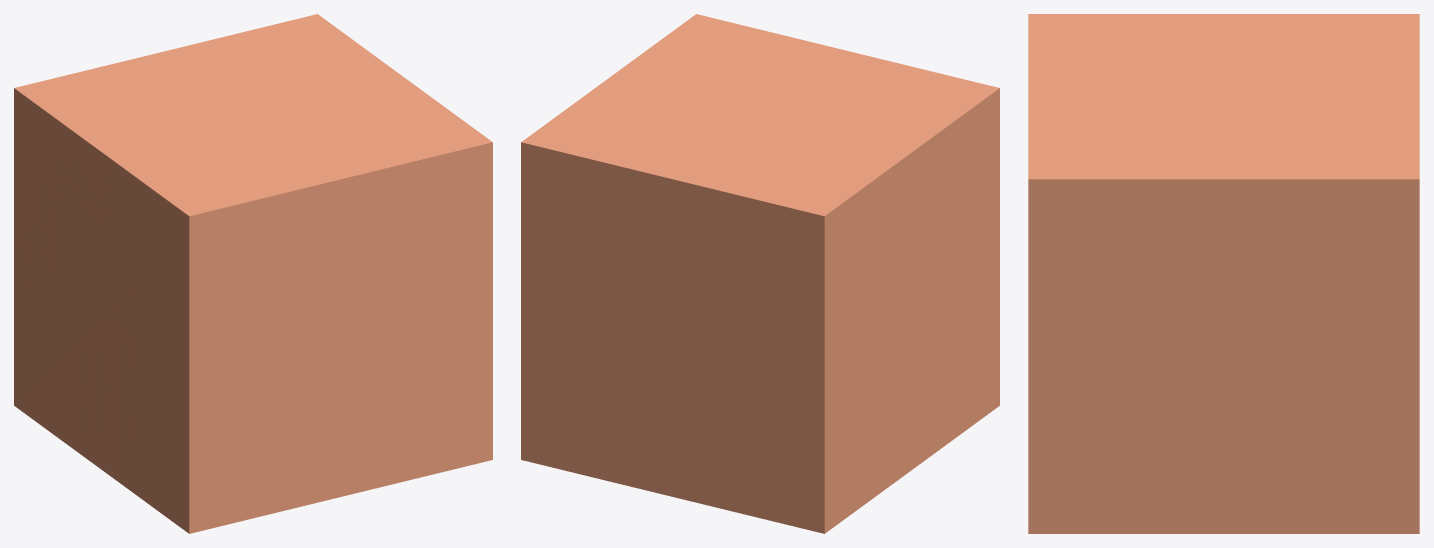
The model's file is 106_emberpetal_petal_block.glb.
3 renders of one model, left to right at view 1: azimuth 30°, elevation 25°; view 2: azimuth 150°, elevation 25°; view 3: azimuth 270°, elevation 25°, orthographic. The views are drawn at different scales.
Visible parts, largest first — view 1: Core; view 2: Core; view 3: Core.
Boxes of the visible parts, <box> form: Core: <box>14,14,492,533</box>; Core: <box>521,14,999,533</box>; Core: <box>1028,14,1419,533</box>.
Bounding box in the file's own units: 1 × 1 × 1.
